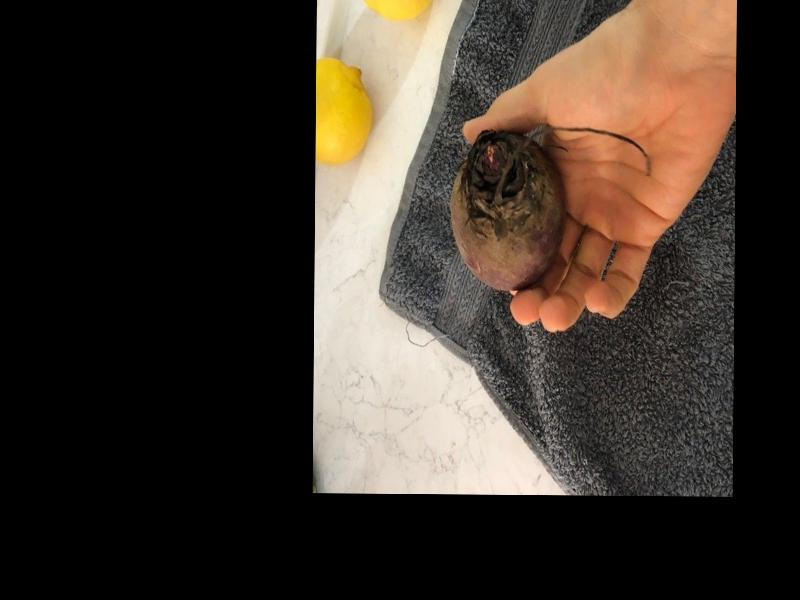Beet: (449, 130, 650, 294)
